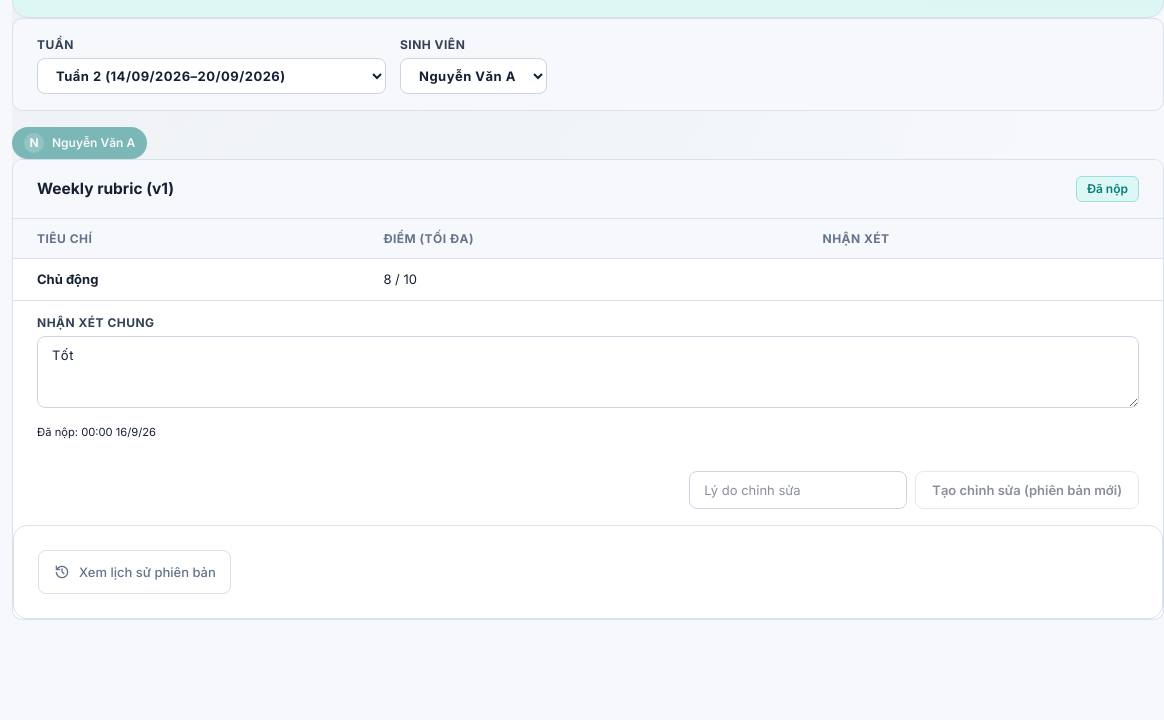
Test case: Weekly assessments page › requires a non-empty revision reason before correcting a submitted version
(page scrolled)
Check: the text "Đã nộp" is shown, box [1076,176,1139,202]
Check: the button "Tạo chỉnh sửa (phiên bản mới)" is disabled, box [915,471,1139,509]
Type "Sửa điểm sai" into the field with placeholder "Lý do chỉnh sửa" at (798, 490), box [689,471,907,509]
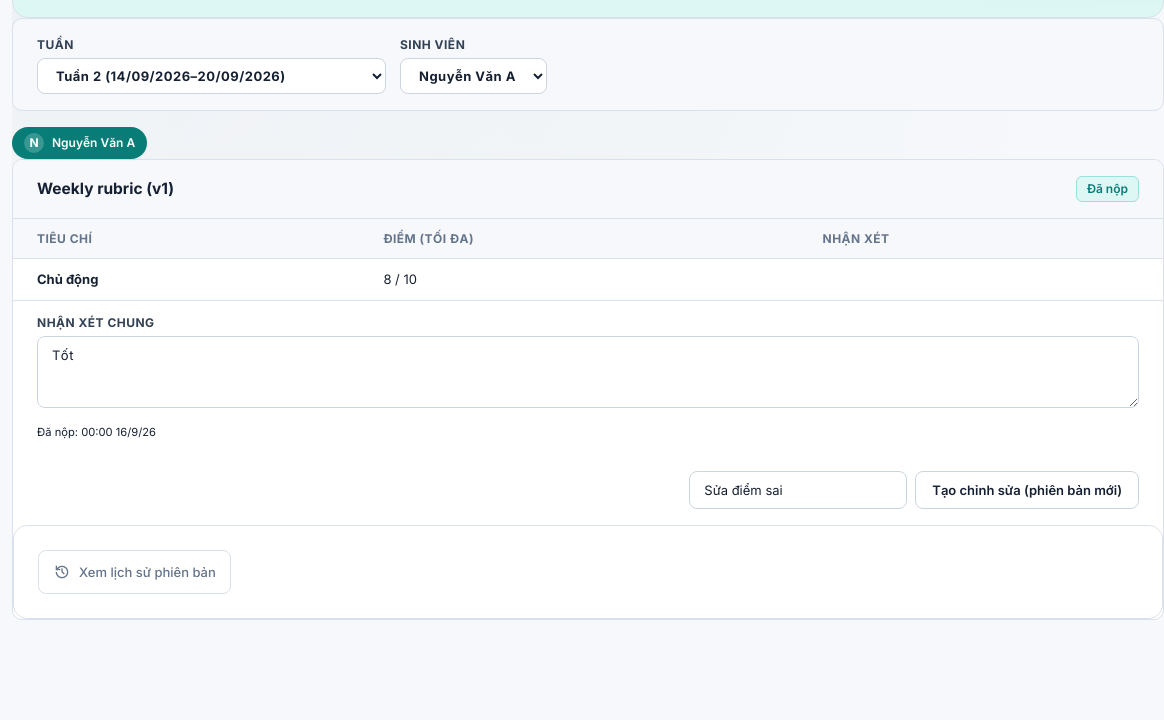
Check: the button "Tạo chỉnh sửa (phiên bản mới)" is enabled, box [915,471,1139,509]
